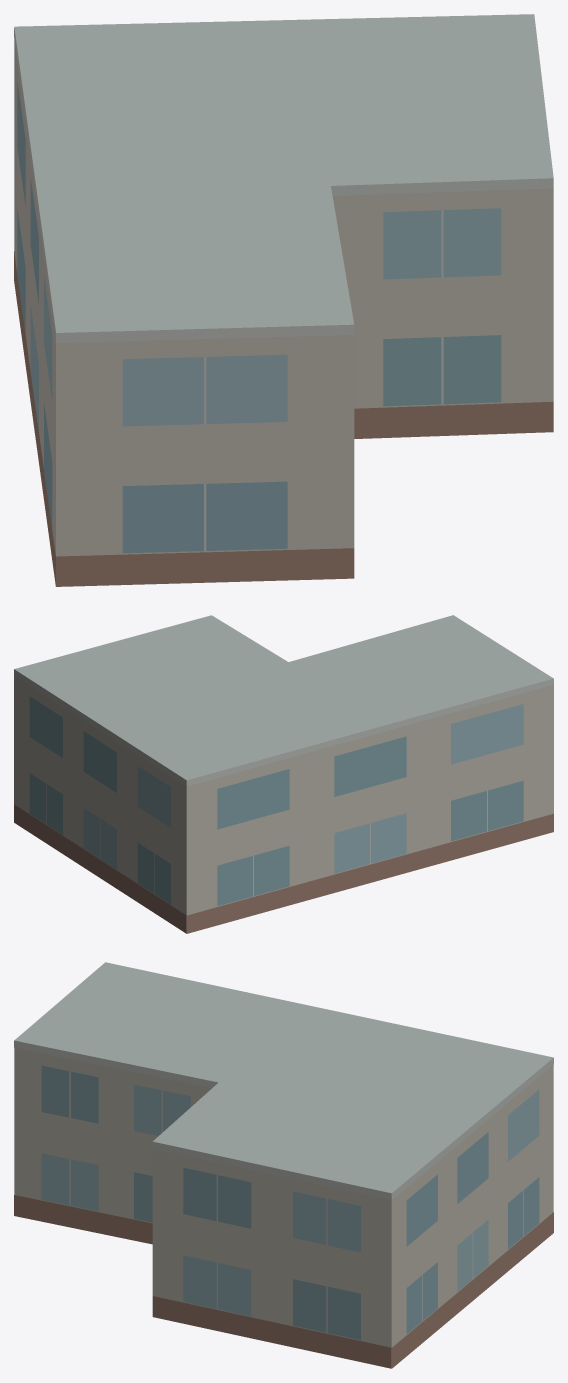
File: survey-upis-32892614.glb
3 views of the same model, one above another, from view 1: azimuth 30°, elevation 25°; view 2: azimuth 150°, elevation 25°; view 3: azimuth 270°, elevation 25° (orthographic). The views are drawn at different scales.
Parts seen in each view (by area): view 1: survey-upis-32892614.tmp; view 2: survey-upis-32892614.tmp; view 3: survey-upis-32892614.tmp.
Part boxes in pixels (left/top/right/bottom): survey-upis-32892614.tmp: left=14, top=14, right=553, bottom=586; survey-upis-32892614.tmp: left=14, top=615, right=553, bottom=933; survey-upis-32892614.tmp: left=14, top=962, right=553, bottom=1368.
Bounding box in the file's own units: 17.25 × 6.1 × 17.02.
